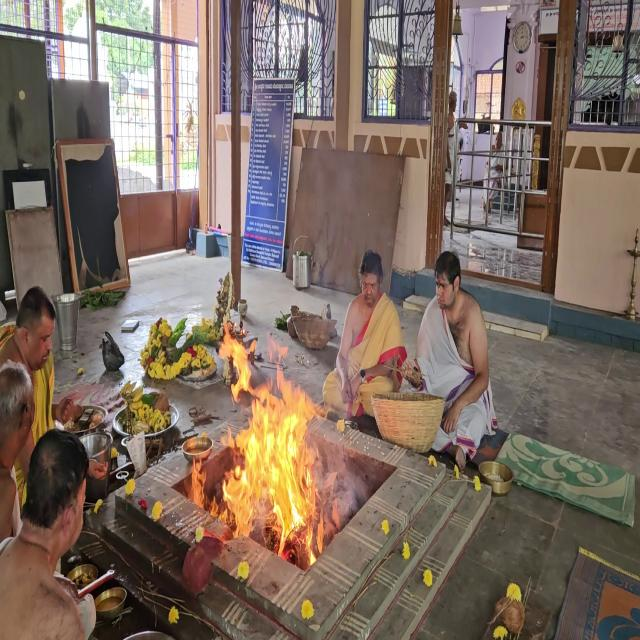fire: (174, 297, 348, 580)
